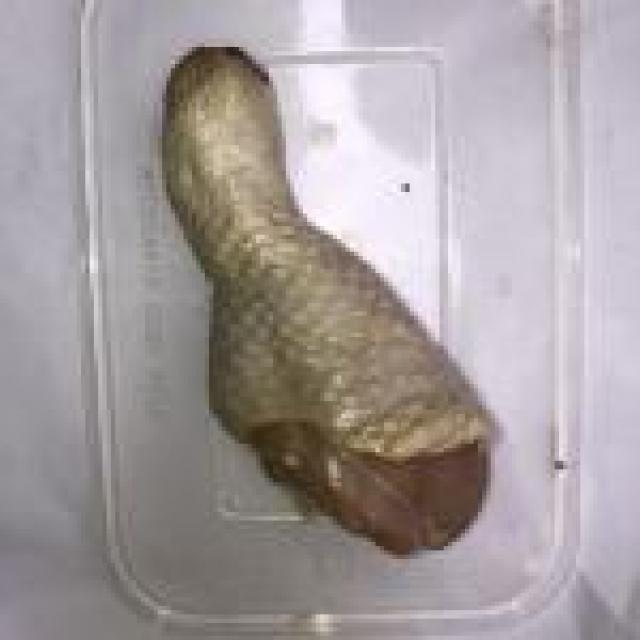leg: (167, 30, 502, 559)
